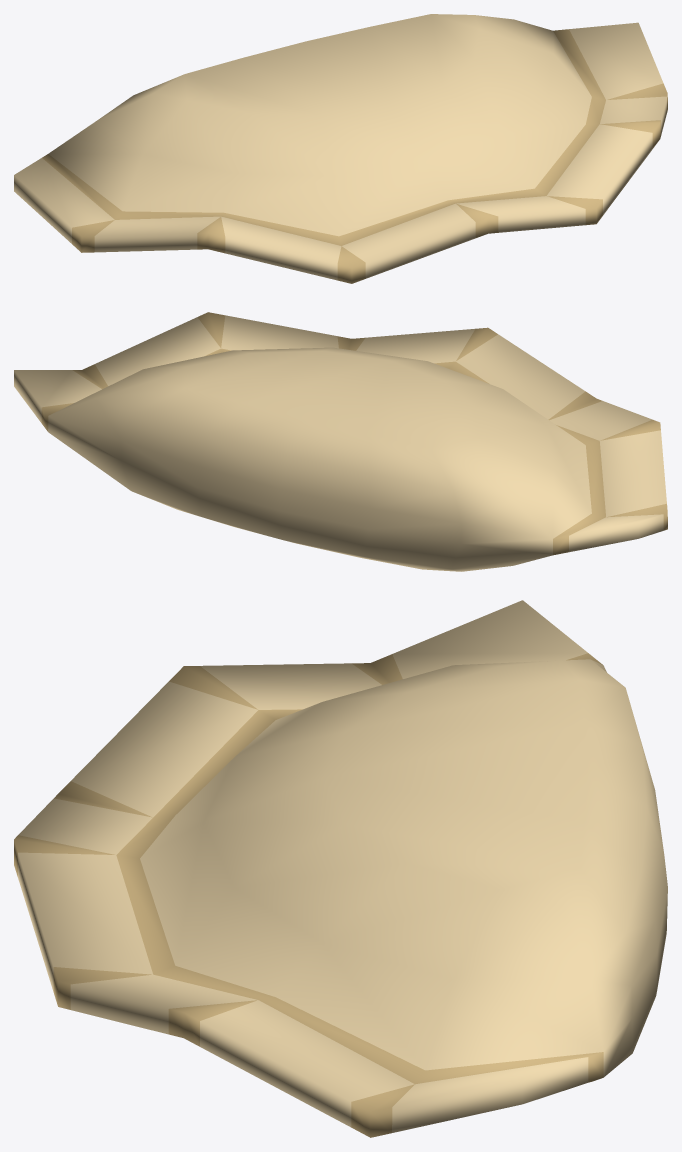
File: mdl_poland_pierogi.gltf
The picture shows the model from 3 angles, top to bottom: view 1: azimuth 30°, elevation 25°; view 2: azimuth 150°, elevation 25°; view 3: azimuth 270°, elevation 25°; orthographic projection. The views are drawn at different scales.
Parts seen in each view (by area): view 1: Cylinder.009; view 2: Cylinder.009; view 3: Cylinder.009.
Part boxes in pixels (bbox=[...]): Cylinder.009: bbox=[14, 14, 667, 283]; Cylinder.009: bbox=[14, 312, 667, 571]; Cylinder.009: bbox=[14, 600, 667, 1137].
Bounding box in the file's own units: 0.2443 × 0.0438 × 0.1411.
Materials: 1 (1 with a texture image).
